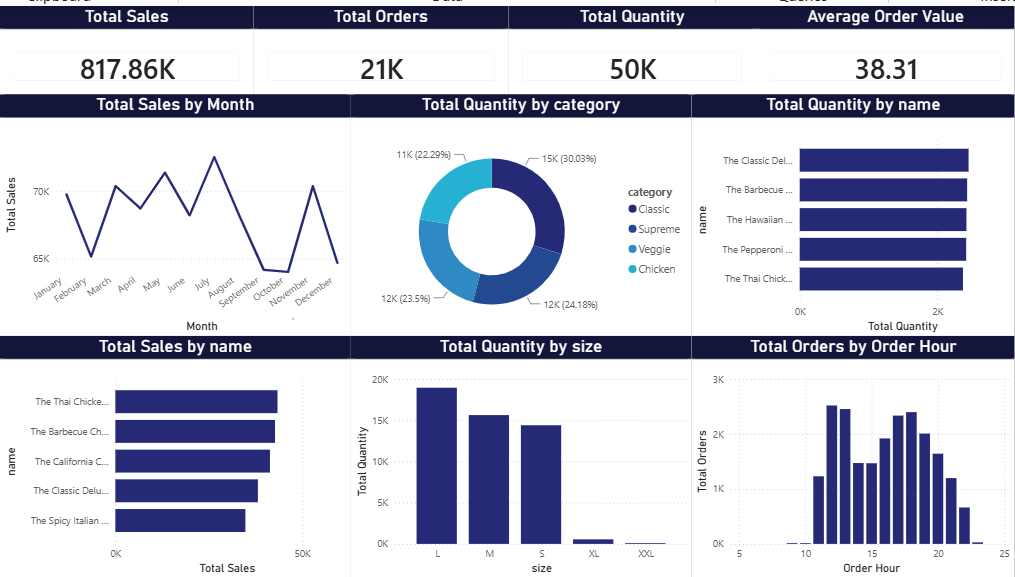

The page's visual inventory and layout, read from the dashboard file:
{"tool":"powerbi","page":{"name":"Page 1","canvas":[1280,720],"ordinal":0},"visuals":[{"type":"cardVisual","title":"Total Sales","fields":{"Data":["order_detail.Total Sales"]},"box":[0,0,319.4,111.5],"z":0},{"type":"cardVisual","title":"Total Orders","fields":{"Data":["order_detail.Total Orders"]},"box":[319.4,0,321.3,111.5],"z":1000},{"type":"cardVisual","title":"Total Quantity","fields":{"Data":["order_detail.Total Quantity"]},"box":[640.6,0,311.8,111.5],"z":2000},{"type":"cardVisual","title":"Average Order Value","fields":{"Data":["order_detail.Average Order Value"]},"box":[952.4,0,326.9,111.5],"z":3000},{"type":"lineChart","fields":{"Y":["order_detail.Total Sales"],"Category":["orders.date.Variation.Date Hierarchy.Year","orders.date.Variation.Date Hierarchy.Quarter","orders.date.Variation.Date Hierarchy.Month","orders.date.Variation.Date Hierarchy.Day"]},"box":[0,111.5,442.2,304.3],"z":4000},{"type":"donutChart","fields":{"Y":["order_detail.Total Quantity"],"Category":["pizza_types.category"]},"box":[442.2,111.5,429,304.3],"z":5000},{"type":"barChart","fields":{"Category":["pizza_types.name"],"Y":["order_detail.Total Quantity"]},"box":[871.2,111.5,408.2,304.3],"z":6000},{"type":"barChart","fields":{"Category":["pizza_types.name"],"Y":["order_detail.Total Sales"]},"box":[0,415.8,442.2,304.3],"z":7000},{"type":"columnChart","fields":{"Category":["pizzas.size"],"Y":["order_detail.Total Quantity"]},"box":[442.2,415.8,429,304.3],"z":8000},{"type":"clusteredColumnChart","fields":{"Category":["orders.Order Hour"],"Y":["order_detail.Total Orders"]},"box":[871.2,415.8,408.2,304.3],"z":9000},{"type":"textbox","box":[362.8,387.4,13.2,13.2],"z":10000}]}

Visuals, with their boxes in screenshot pixels (x1, y1, x2, y2), scaled from the page's 1280x720 canvas onto the 1015x577 screenshot:
"Total Sales" cardVisual: (x1=0, y1=0, x2=253, y2=89)
"Total Orders" cardVisual: (x1=253, y1=0, x2=508, y2=89)
"Total Quantity" cardVisual: (x1=508, y1=0, x2=755, y2=89)
"Average Order Value" cardVisual: (x1=755, y1=0, x2=1014, y2=89)
lineChart - order_detail.Total Sales x orders.date.Variation.Date Hierarchy.Year: (x1=0, y1=89, x2=351, y2=333)
donutChart - order_detail.Total Quantity x pizza_types.category: (x1=351, y1=89, x2=691, y2=333)
barChart - pizza_types.name x order_detail.Total Quantity: (x1=691, y1=89, x2=1014, y2=333)
barChart - pizza_types.name x order_detail.Total Sales: (x1=0, y1=333, x2=351, y2=576)
columnChart - pizzas.size x order_detail.Total Quantity: (x1=351, y1=333, x2=691, y2=576)
clusteredColumnChart - orders.Order Hour x order_detail.Total Orders: (x1=691, y1=333, x2=1014, y2=576)
textbox: (x1=288, y1=310, x2=298, y2=321)
